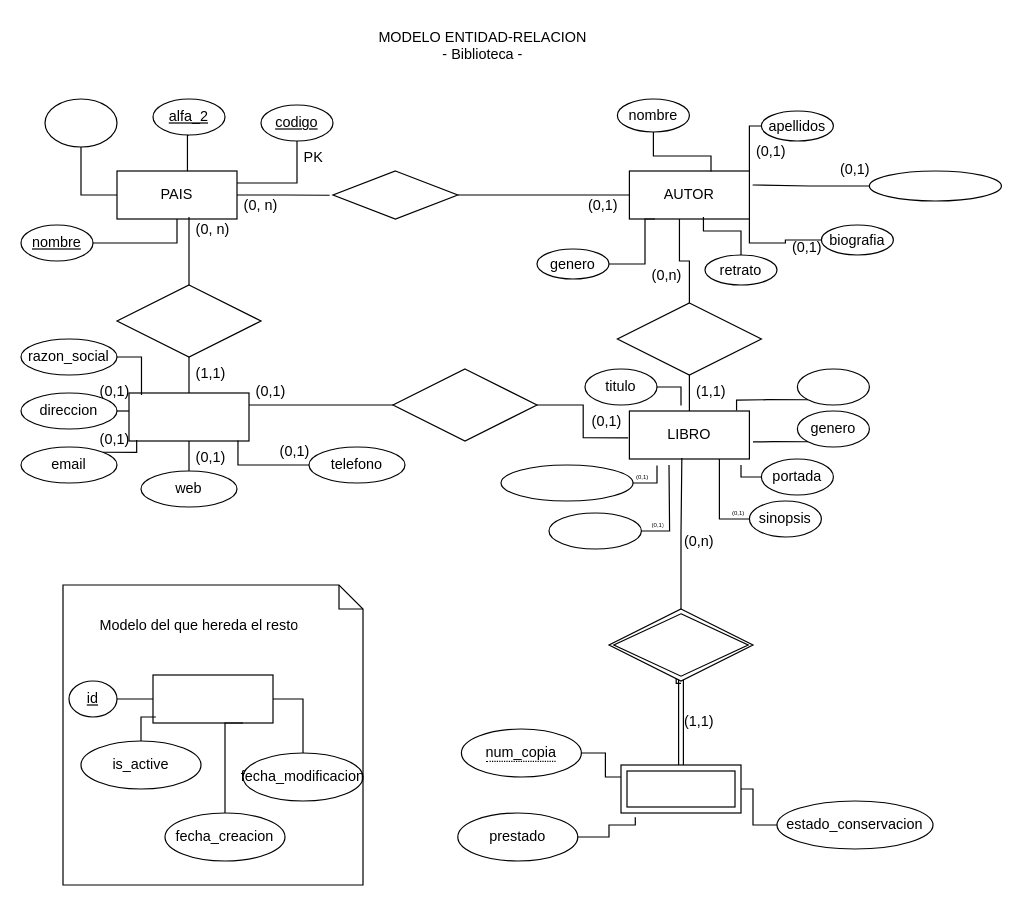
The diagram is 1022 pixels wide and 906 high, and some of its shapes have lost their labels. The centre of each missing label's shape, as x and y in pixels:
alfa_3: the point at 80,122
annio_publicacion: the point at 566,482
COPIA_LIBRO: the point at 680,788
EDITADO_POR: the point at 464,404
EDITORIAL: the point at 188,416
ES_COPIA_DE: the point at 680,644
ESCRITO_POR: the point at 688,338
fecha_nacimiento: the point at 934,185
MODELO_BASE: the point at 212,698
NACIDO_EN: the point at 395,194
observacion: the point at 594,530
tipo: the point at 832,386
UBICADO_EN: the point at 188,320
